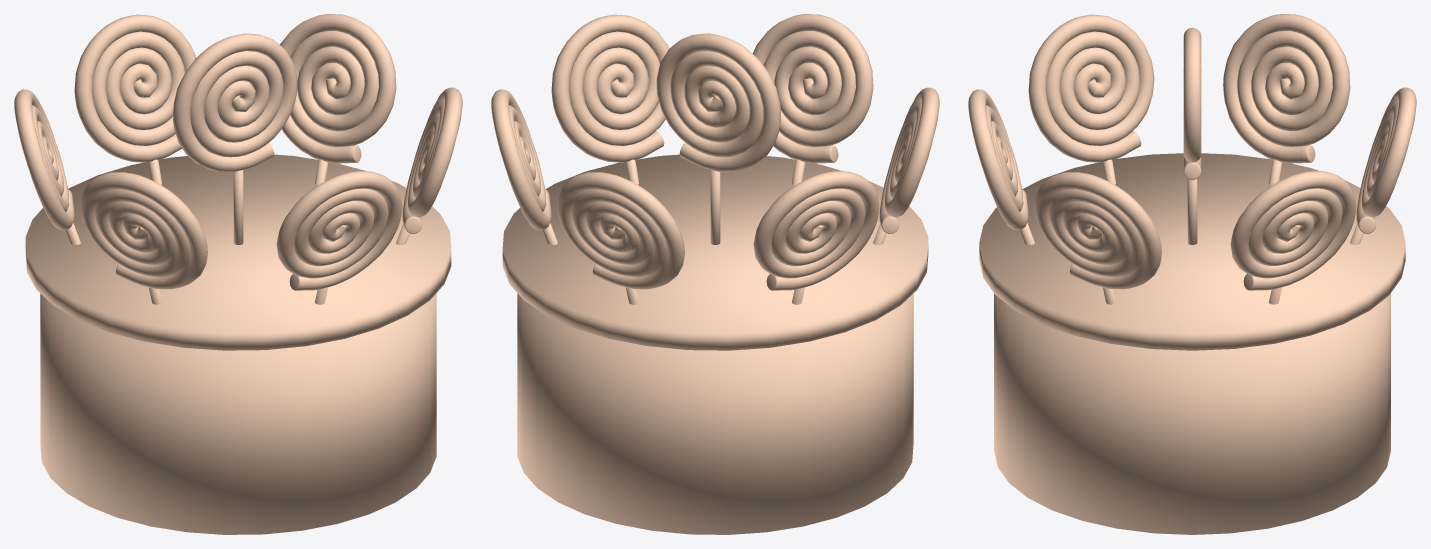
The model's file is Lollipop_Spot.fbx.
The picture shows the model from 3 angles, left to right: view 1: azimuth 30°, elevation 25°; view 2: azimuth 150°, elevation 25°; view 3: azimuth 270°, elevation 25°; orthographic projection.
Visible parts, largest first — view 1: Lollipop_Spot; view 2: Lollipop_Spot; view 3: Lollipop_Spot.
Boxes of the visible parts, <box> form: Lollipop_Spot: <box>14,14,462,534</box>; Lollipop_Spot: <box>491,14,939,534</box>; Lollipop_Spot: <box>968,14,1416,534</box>.
Size of the model in its own units: 9.83 by 10.49 by 10.25.
